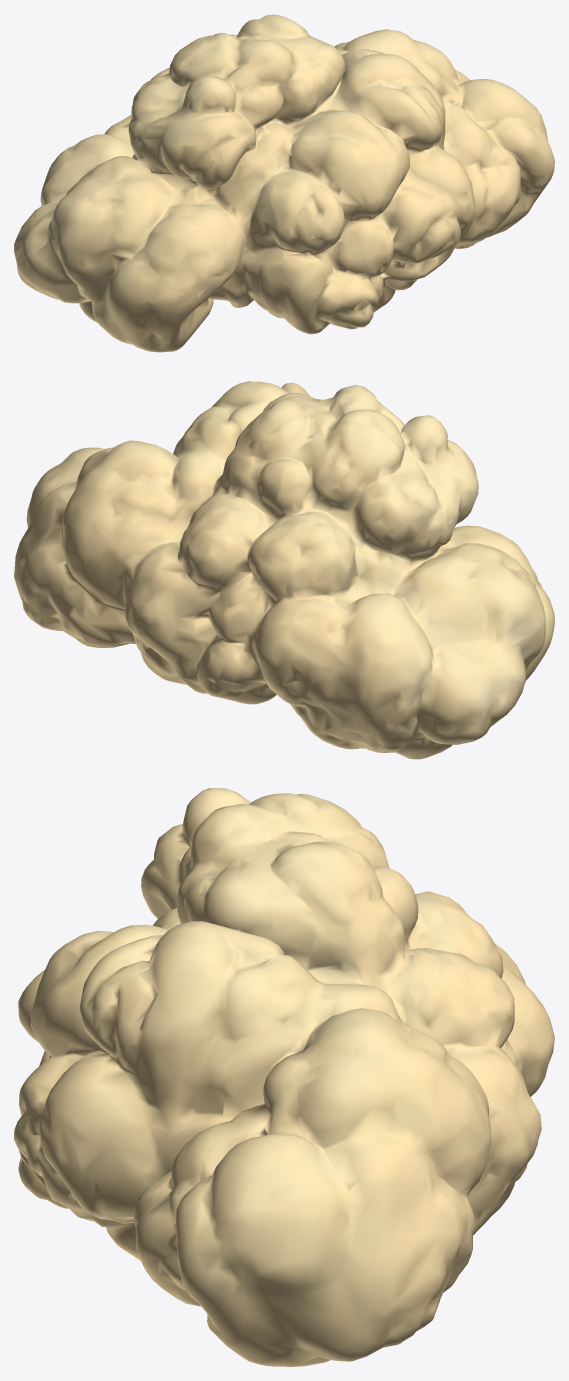
Rendered from cloud.glb.
3 renders of one model, top to bottom at view 1: azimuth 30°, elevation 25°; view 2: azimuth 150°, elevation 25°; view 3: azimuth 270°, elevation 25°, orthographic. The views are drawn at different scales.
Size of the model in its own units: 1.9 by 1.09 by 1.23.
1 material, 1 textured.
